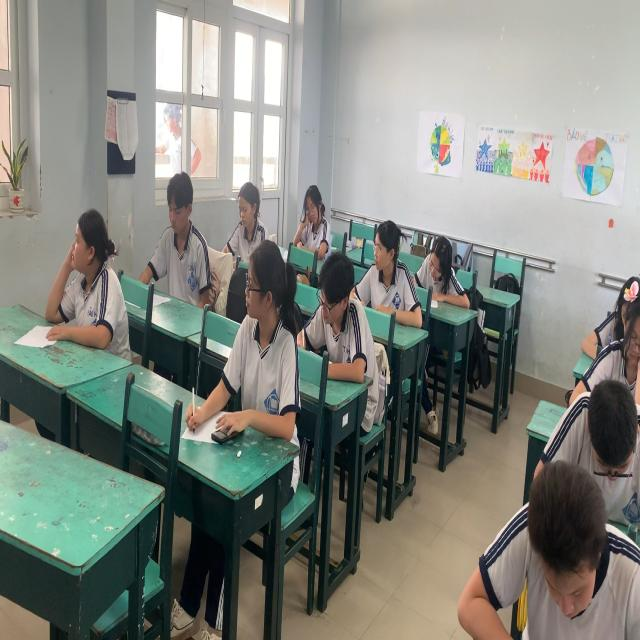not_cheating: (502, 466, 634, 640), (220, 239, 294, 434), (52, 204, 124, 366), (560, 371, 640, 495), (304, 243, 364, 362), (155, 171, 205, 305), (360, 210, 408, 317), (601, 292, 640, 392), (423, 228, 461, 314), (297, 182, 335, 262), (231, 181, 267, 259)
